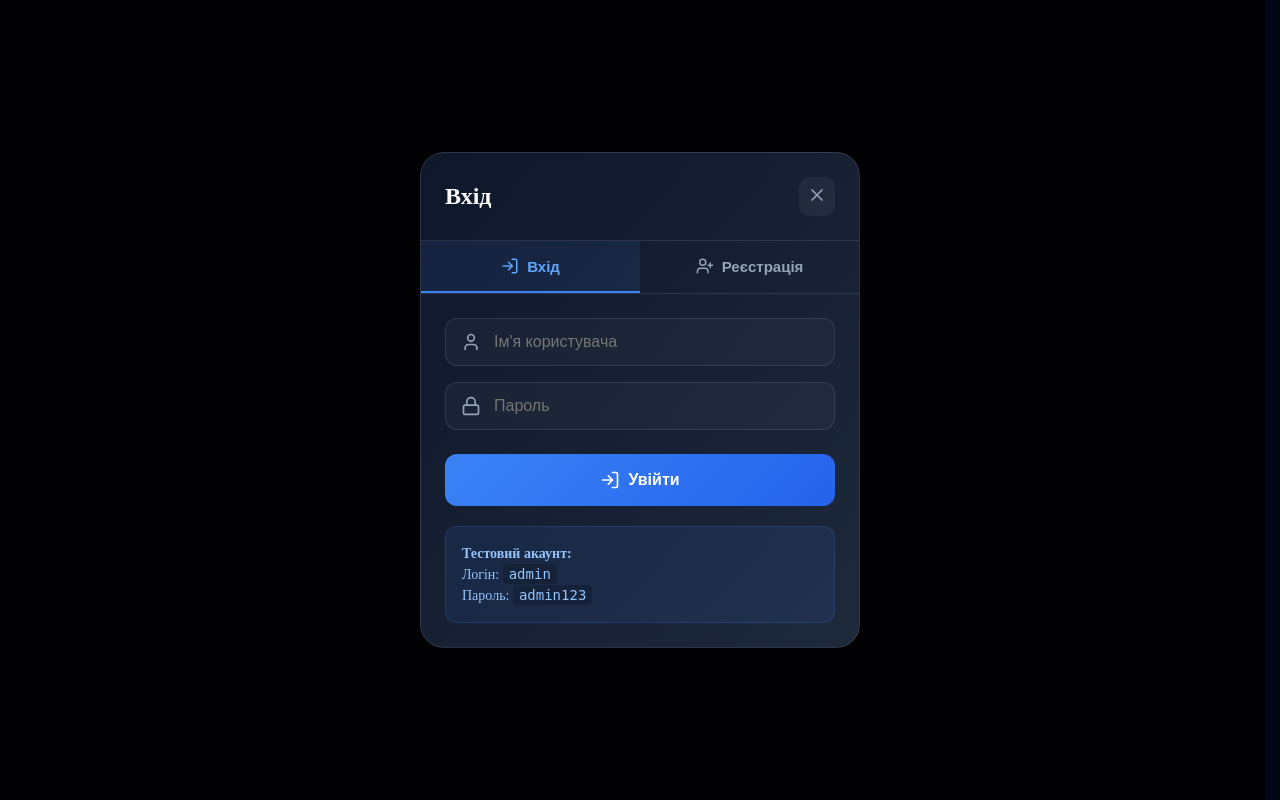
Scenario: AuthModal › Tab Switching › should switch to register tab when clicked
Click the button "Реєстрація": (750,267) [640,241,859,293]
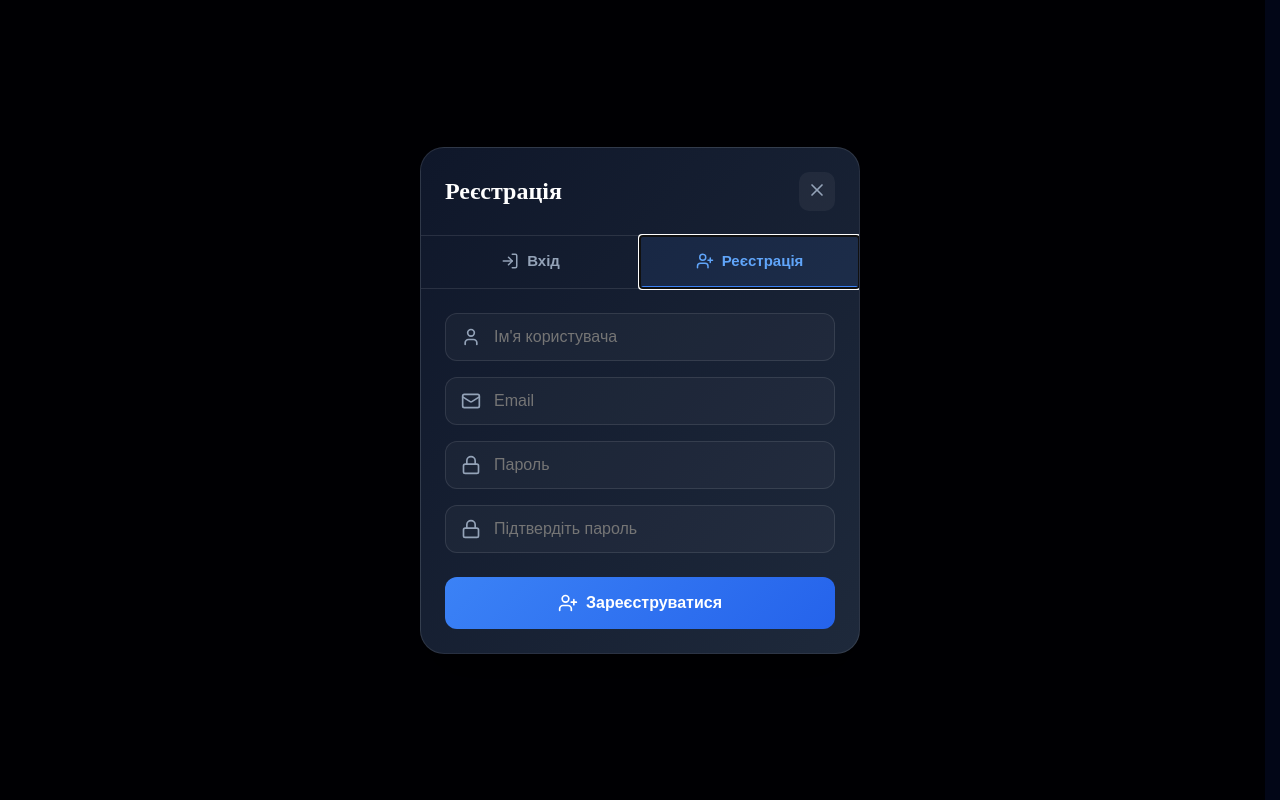
Check: the field with placeholder "Email" is shown, box [445,376,835,424]
Check: the password field with placeholder "Підтвердіть пароль" is shown, box [445,504,835,552]
